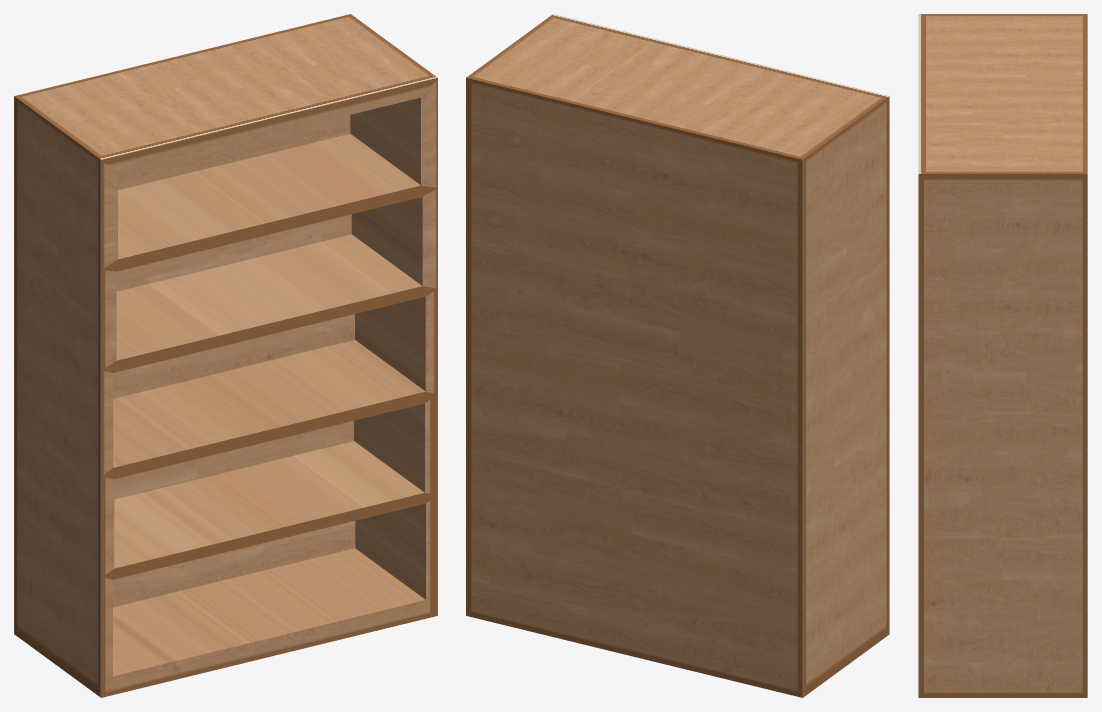
Rendered from Bookshelf_Empty.fbx.
3 views of the same model, side by side, from view 1: azimuth 30°, elevation 25°; view 2: azimuth 150°, elevation 25°; view 3: azimuth 270°, elevation 25° (orthographic). The views are drawn at different scales.
Visible parts, largest first — view 1: Shelf6; view 2: Shelf6; view 3: Shelf6.
Boxes of the visible parts, bbox=[...] form: Shelf6: bbox=[14, 14, 437, 697]; Shelf6: bbox=[466, 14, 889, 697]; Shelf6: bbox=[918, 14, 1087, 697].
Bounding box in the file's own units: 127 × 194 × 56.91.
